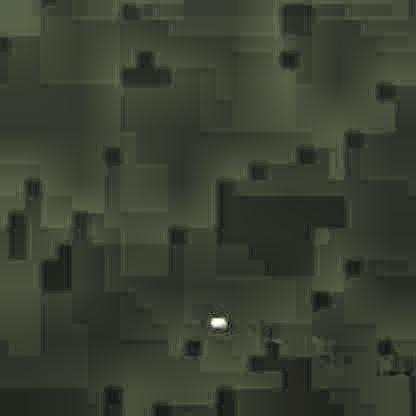golfball: (206, 314, 223, 328)
